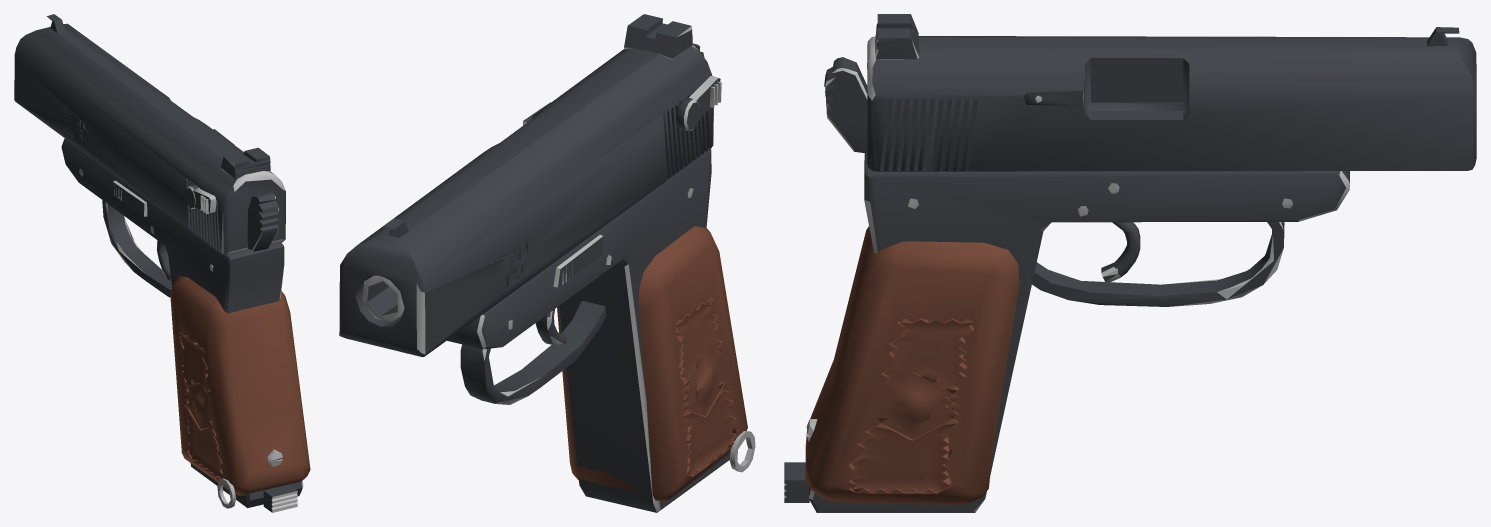
File: pm_pistol_lod1.glb
3 renders of one model, left to right at view 1: azimuth 30°, elevation 25°; view 2: azimuth 150°, elevation 25°; view 3: azimuth 270°, elevation 25°, orthographic. The views are drawn at different scales.
Parts seen in each view (by area): view 1: Blued, Bakelite, Worn, Steel; view 2: Blued, Bakelite, Worn, Steel; view 3: Blued, Bakelite, Worn.
Boxes of the visible parts, left/top/right/bottom form: Blued: left=14, top=14, right=302, bottom=512; Bakelite: left=170, top=276, right=310, bottom=495; Worn: left=105, top=157, right=303, bottom=512; Steel: left=79, top=168, right=283, bottom=508; Blued: left=339, top=14, right=730, bottom=512; Bakelite: left=557, top=226, right=747, bottom=501; Worn: left=362, top=26, right=721, bottom=512; Steel: left=508, top=188, right=755, bottom=472; Blued: left=784, top=14, right=1476, bottom=512; Bakelite: left=805, top=226, right=1019, bottom=504; Worn: left=784, top=36, right=1349, bottom=512.
Size of the model in its own units: 0.034 by 0.1233 by 0.1645.
